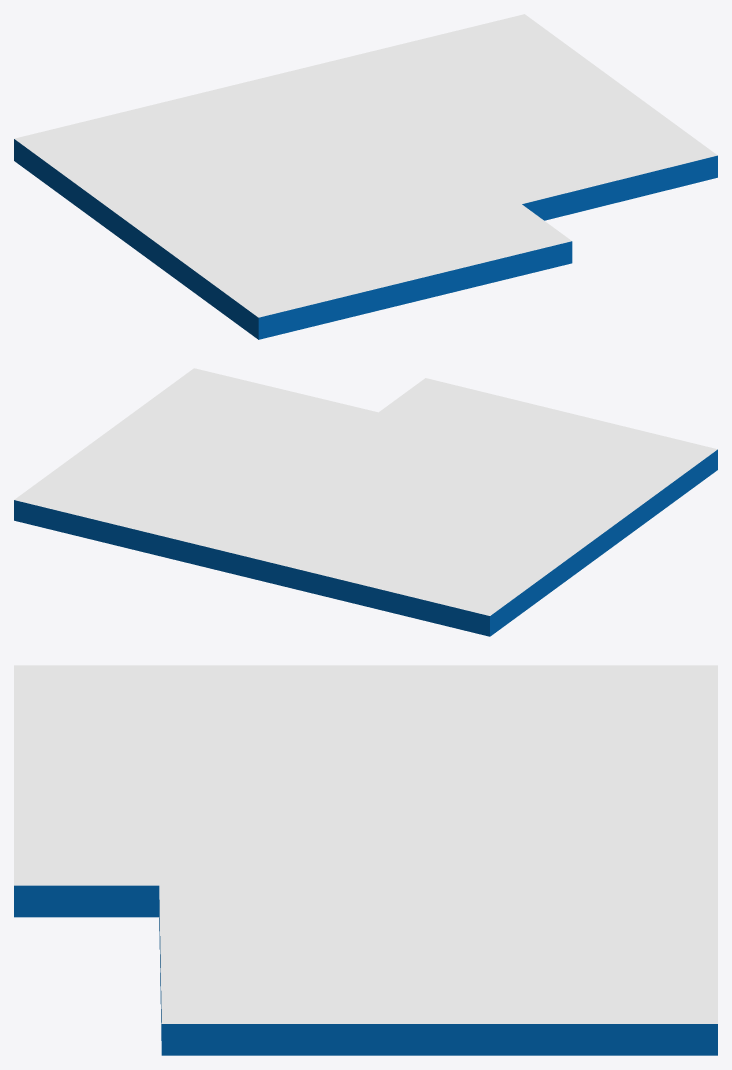
Rendered from BasementEntranceRoof.fbx.
3 renders of one model, top to bottom at view 1: azimuth 30°, elevation 25°; view 2: azimuth 150°, elevation 25°; view 3: azimuth 270°, elevation 25°, orthographic. The views are drawn at different scales.
Parts seen in each view (by area): view 1: BasementEntranceRoof; view 2: BasementEntranceRoof; view 3: BasementEntranceRoof.
Boxes of the visible parts, bbox=[...] form: BasementEntranceRoof: bbox=[14, 14, 717, 339]; BasementEntranceRoof: bbox=[14, 368, 717, 636]; BasementEntranceRoof: bbox=[14, 665, 717, 1055].
Size of the model in its own units: 475 by 19.69 by 394.
1 material, 1 textured.
